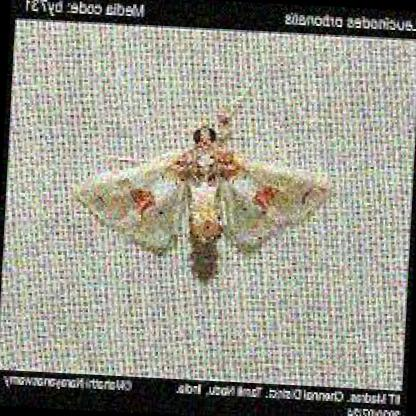leucinodes: (70, 120, 334, 259)
